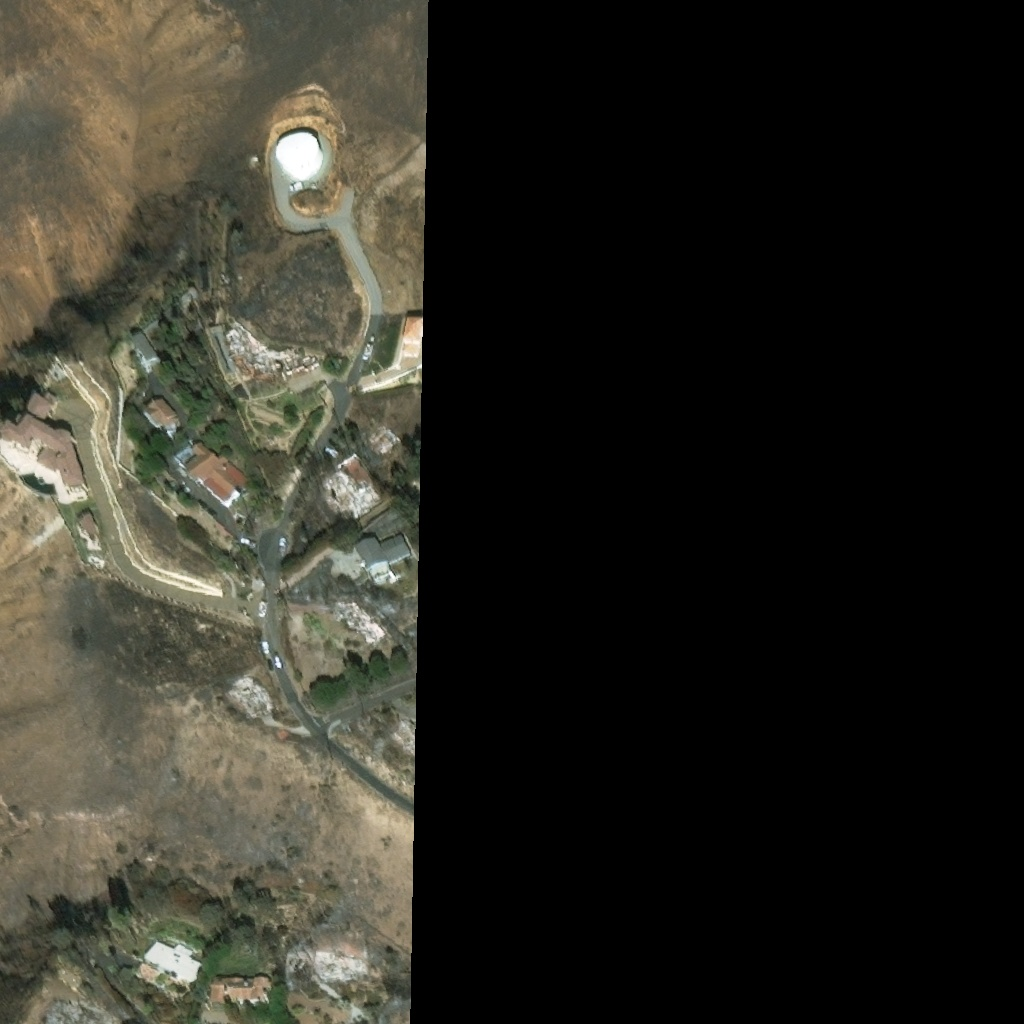0 no-damage: (143, 938, 203, 981), (210, 977, 267, 1005)
3 destroyed: (30, 994, 117, 1023)
